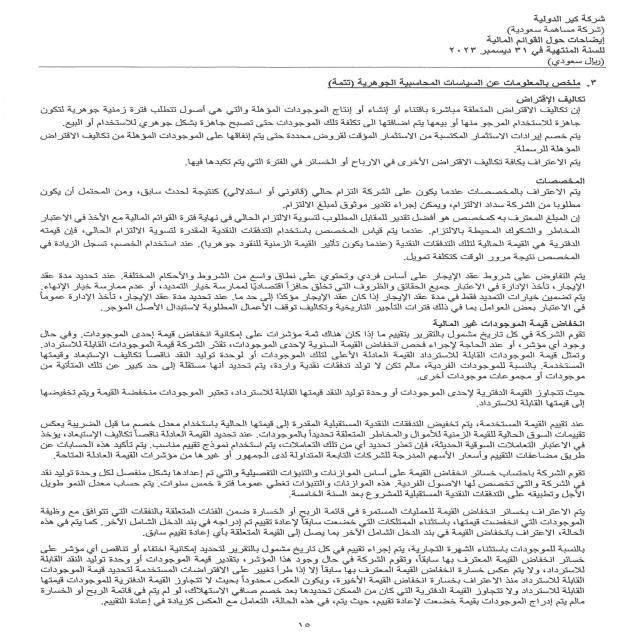notes: (484, 34, 611, 49)
text: (25, 79, 605, 626)
